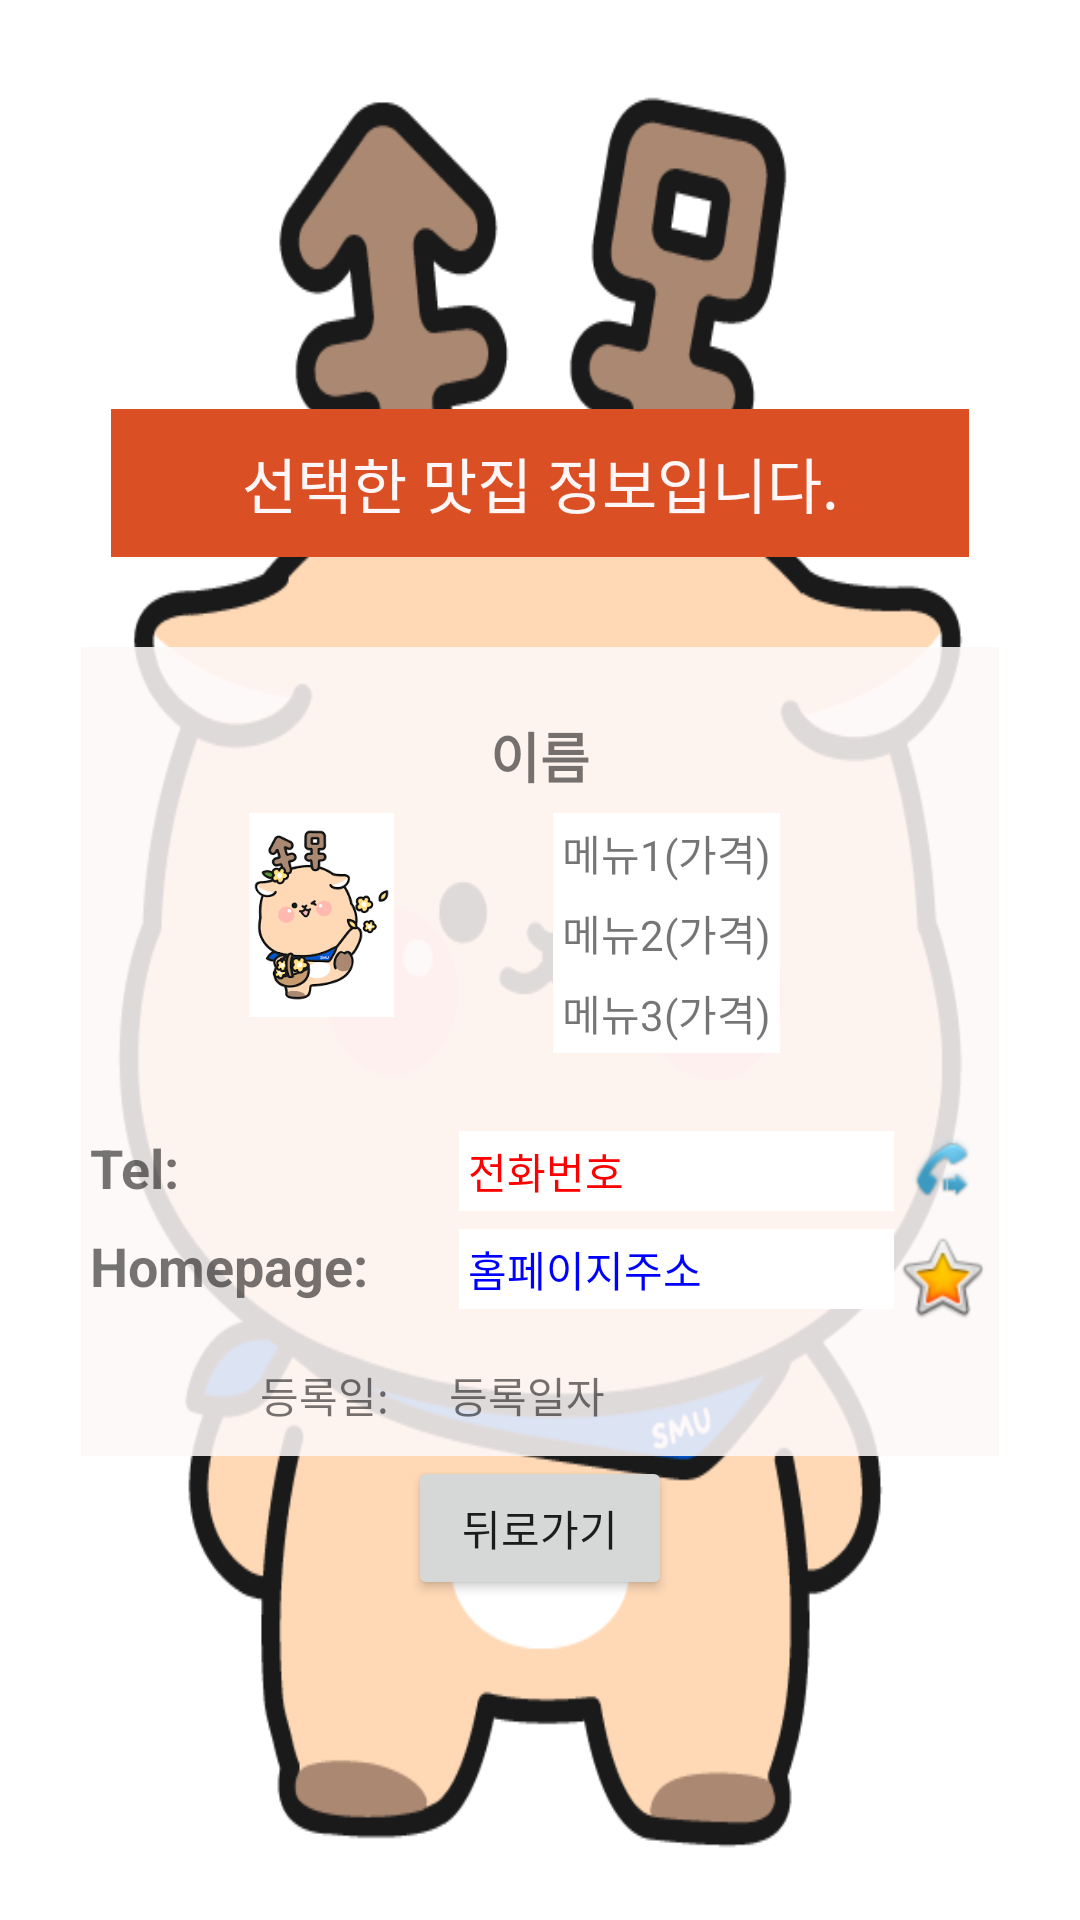

Locate icon controls on the screen. Image size 1080w x 1920h, boxes as (x1,y1,x2,y2).
phone call forward: (910,1131,968,1208)
star on: (903,1239,983,1317)
